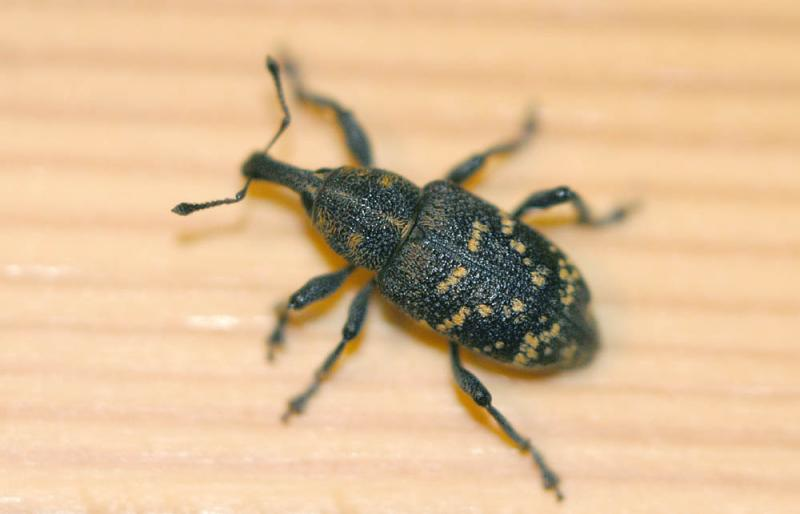dolgonosik: (178, 46, 634, 504)
